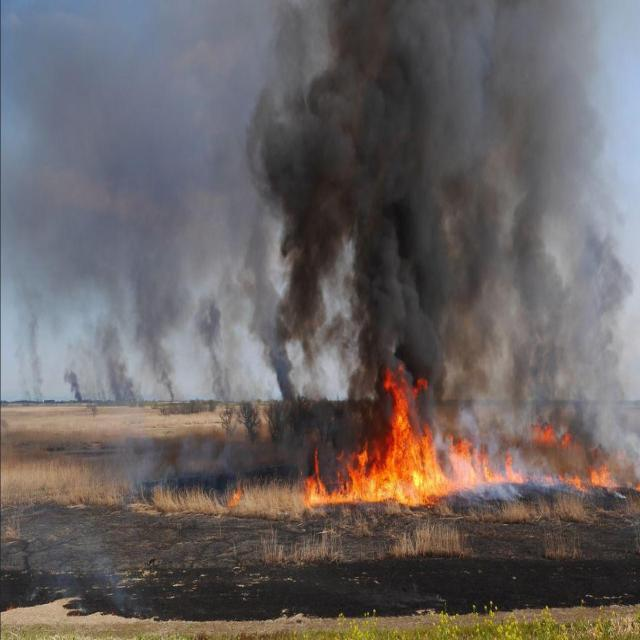Fire: (299, 340, 516, 510), (531, 409, 580, 449), (548, 468, 623, 494), (226, 482, 246, 511)
